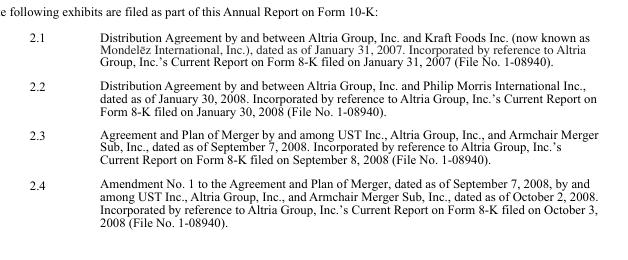table: (28, 29, 597, 228)
table column: (71, 29, 597, 228), (28, 29, 71, 228)
table row: (28, 171, 597, 228), (28, 121, 597, 171), (28, 72, 597, 121), (28, 29, 597, 72)
